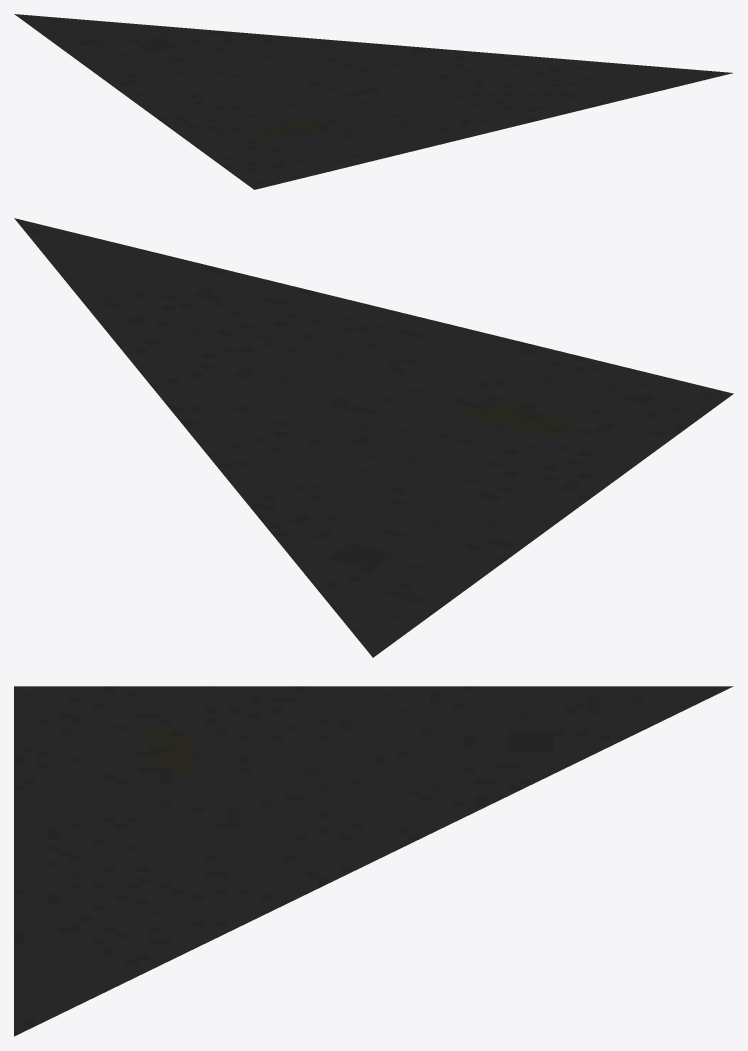
File: OZ_70_nk_F07grd01aza01A.glb
The picture shows the model from 3 angles, top to bottom: view 1: azimuth 30°, elevation 25°; view 2: azimuth 150°, elevation 25°; view 3: azimuth 270°, elevation 25°; orthographic projection. The views are drawn at different scales.
Visible parts, largest first — view 1: OM_70_nk_F07grd01aza01A; view 2: OM_70_nk_F07grd01aza01A; view 3: OM_70_nk_F07grd01aza01A.
Boxes of the visible parts, x1=… form: OM_70_nk_F07grd01aza01A: x1=14, y1=14, x2=732, y2=189; OM_70_nk_F07grd01aza01A: x1=14, y1=218, x2=733, y2=657; OM_70_nk_F07grd01aza01A: x1=14, y1=686, x2=733, y2=1036.
Bounding box in the file's own units: 0.0167 × 0 × 0.0145.
Materials: 1 (1 with a texture image).
